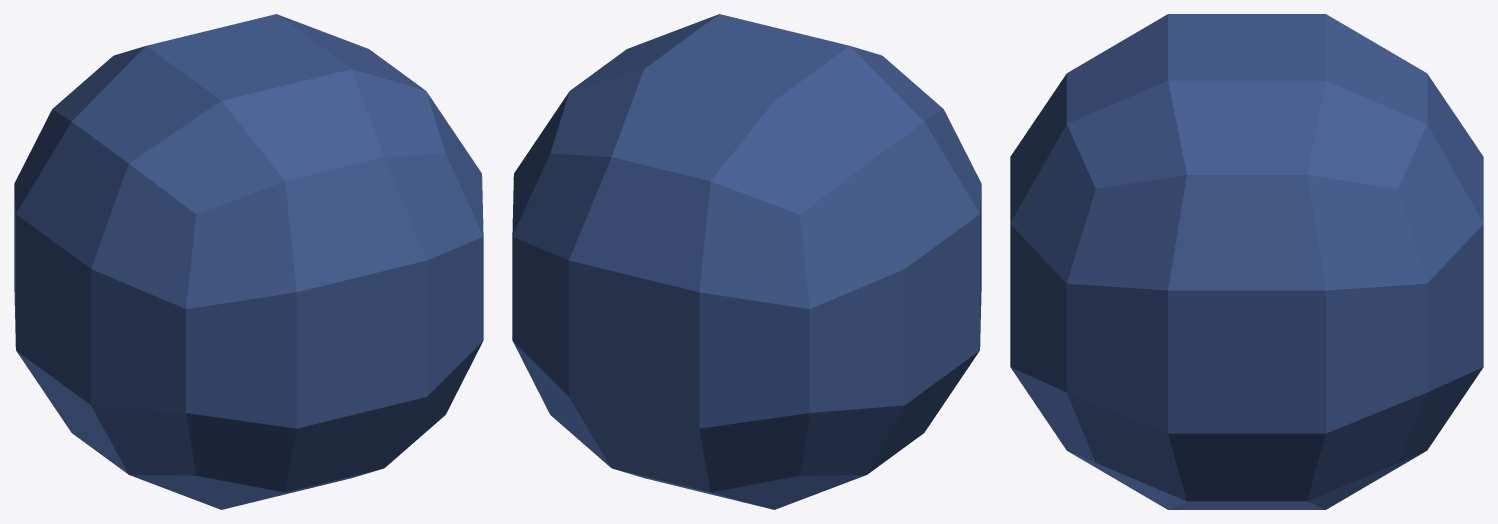
Rendered from arandano.fbx.
The picture shows the model from 3 angles, left to right: view 1: azimuth 30°, elevation 25°; view 2: azimuth 150°, elevation 25°; view 3: azimuth 270°, elevation 25°; orthographic projection. The views are drawn at different scales.
Parts seen in each view (by area): view 1: arandano; view 2: arandano; view 3: arandano.
Part boxes in pixels (left/top/right/bottom): arandano: left=14, top=14, right=483, bottom=509; arandano: left=512, top=14, right=981, bottom=509; arandano: left=1010, top=14, right=1483, bottom=509.
Bounding box in the file's own units: 1.22 × 1.22 × 1.22.
